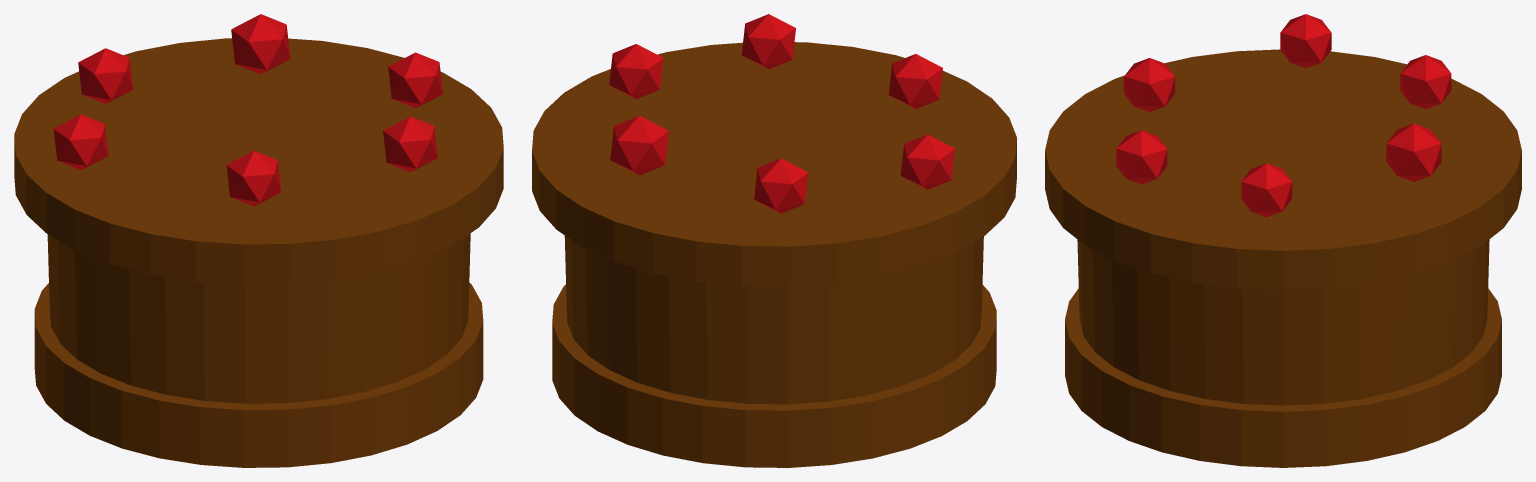
The model's file is pastel-choco.dae.
3 views of the same model, side by side, from view 1: azimuth 30°, elevation 25°; view 2: azimuth 150°, elevation 25°; view 3: azimuth 270°, elevation 25° (orthographic). The views are drawn at different scales.
Parts seen in each view (by area): view 1: Cylinder, Icosphere.002, Icosphere, Icosphere.001, Icosphere.003, Icosphere.004, Icosphere.005; view 2: Cylinder, Icosphere.002, Icosphere.003, Icosphere, Icosphere.001, Icosphere.005, Icosphere.004; view 3: Cylinder, Icosphere.002, Icosphere, Icosphere.001, Icosphere.003, Icosphere.005, Icosphere.004.
Part boxes in pixels (box(x1,y1,x2,y2)): Cylinder: box(14, 38, 503, 467); Icosphere.002: box(231, 14, 290, 74); Icosphere: box(53, 114, 108, 169); Icosphere.001: box(78, 48, 132, 103); Icosphere.003: box(388, 52, 442, 108); Icosphere.004: box(226, 151, 281, 206); Icosphere.005: box(383, 116, 437, 172); Cylinder: box(532, 42, 1016, 467); Icosphere.002: box(610, 115, 668, 175); Icosphere.003: box(609, 44, 663, 99); Icosphere: box(900, 134, 954, 189); Icosphere.001: box(754, 158, 808, 213); Icosphere.005: box(741, 14, 795, 69); Icosphere.004: box(888, 54, 942, 108); Cylinder: box(1045, 49, 1521, 467); Icosphere.002: box(1386, 123, 1441, 181); Icosphere: box(1280, 14, 1331, 68); Icosphere.001: box(1400, 55, 1451, 109); Icosphere.003: box(1241, 163, 1292, 217); Icosphere.005: box(1116, 130, 1167, 184); Icosphere.004: box(1124, 58, 1175, 112).
Size of the model in its own units: 2.18 by 2.18 by 1.44.
